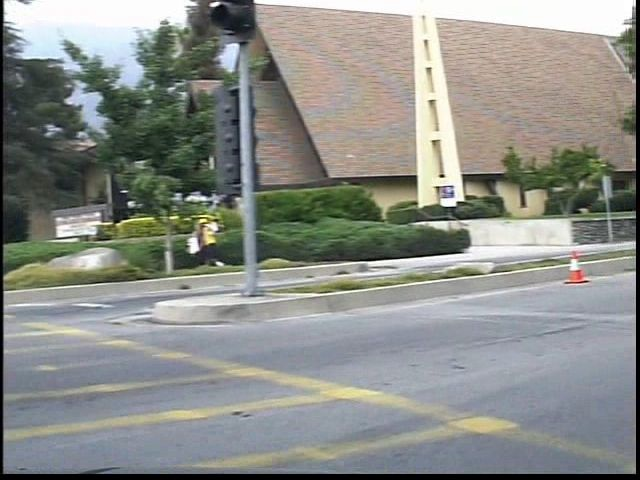person: (206, 212, 243, 272)
